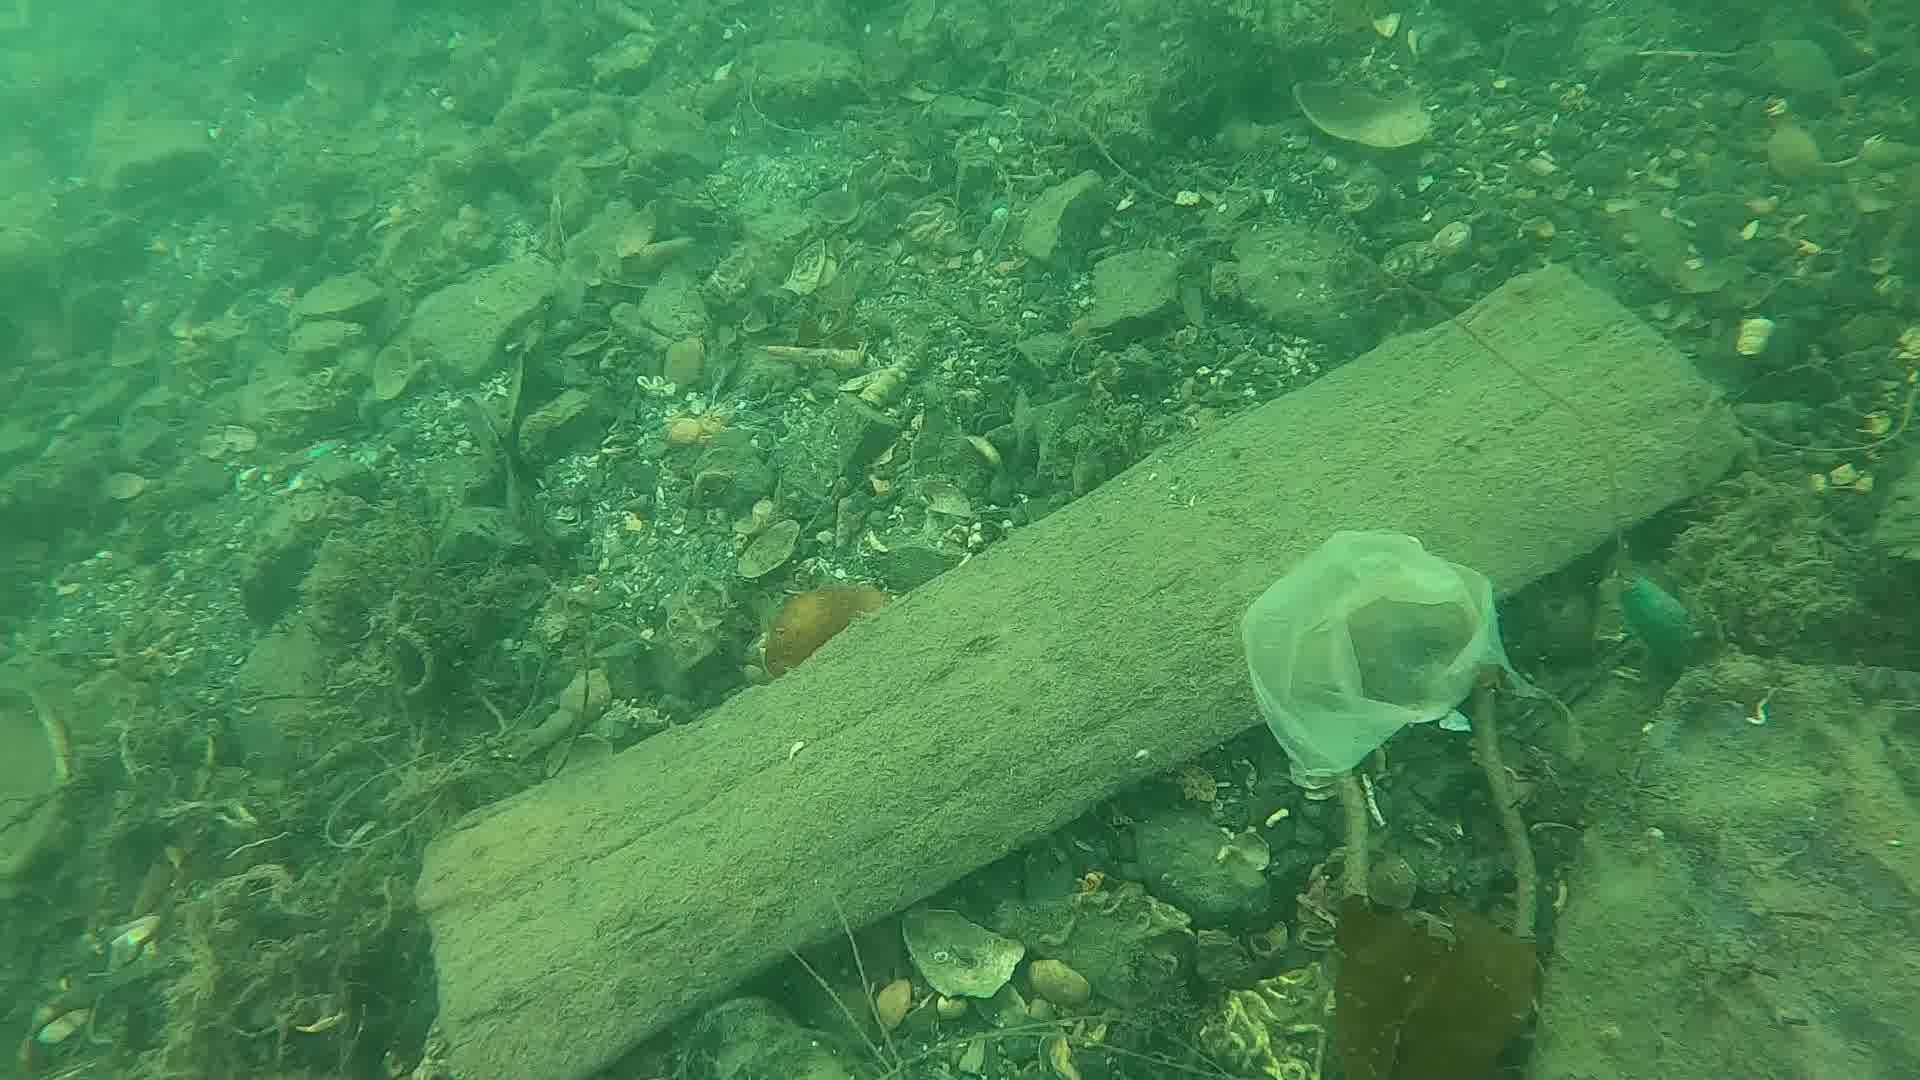wood: (409, 264, 1746, 1080)
